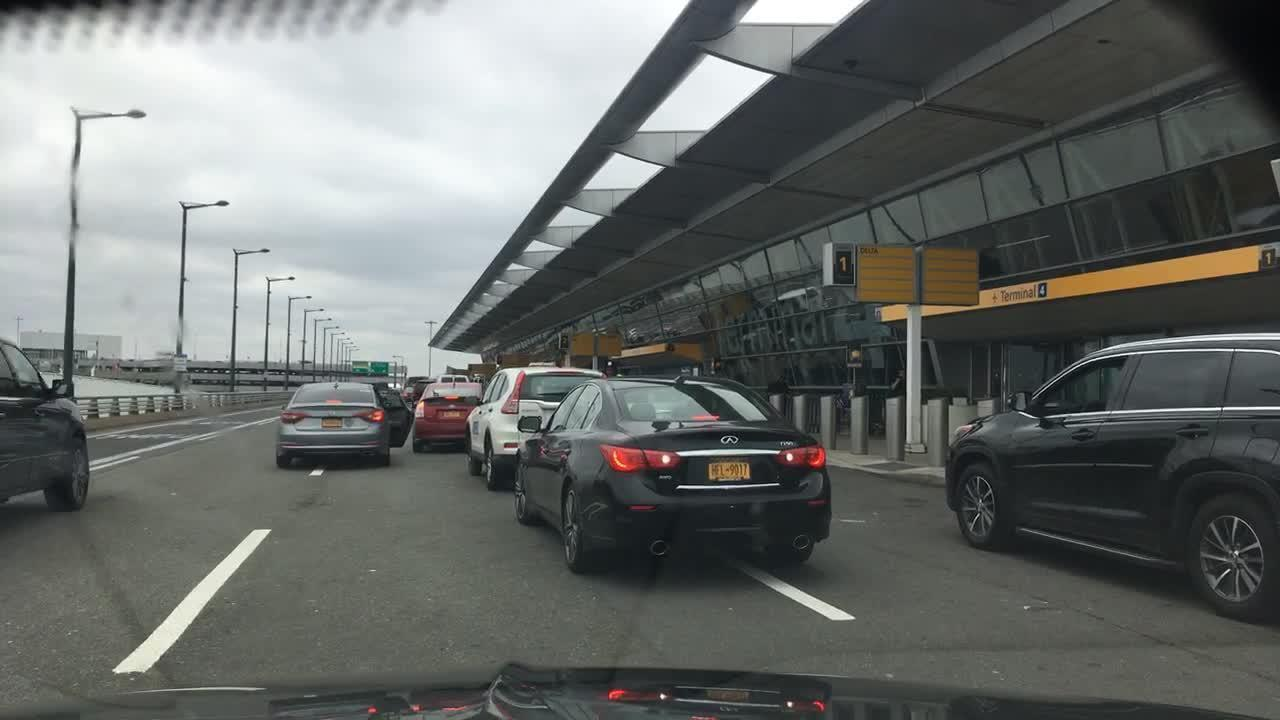Infiniti: (706, 429, 747, 456)
